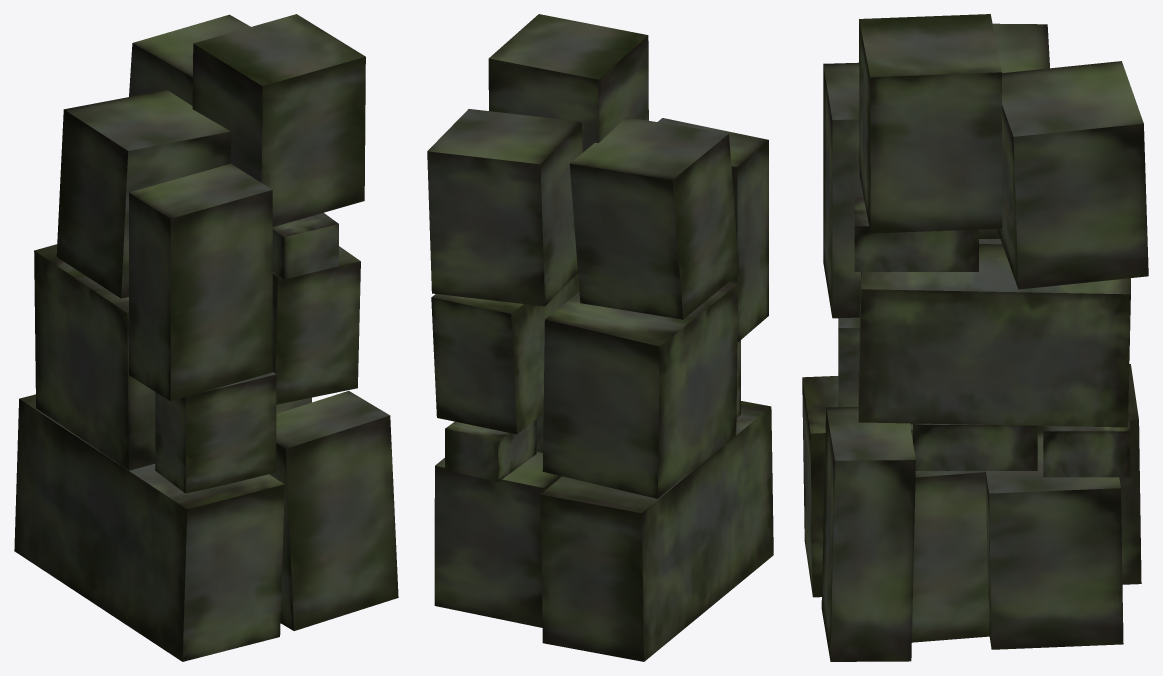
Rendered from ruin-pillar-01.fbx.
3 renders of one model, left to right at view 1: azimuth 30°, elevation 25°; view 2: azimuth 150°, elevation 25°; view 3: azimuth 270°, elevation 25°, orthographic. The views are drawn at different scales.
Visible parts, largest first — view 1: pillar_01; view 2: pillar_01; view 3: pillar_01.
Boxes of the visible parts, box(x1,y1,x2,y2) form: pillar_01: box(14, 14, 398, 661); pillar_01: box(427, 14, 773, 661); pillar_01: box(802, 14, 1148, 661).
Size of the model in its own units: 177 by 372 by 200.
